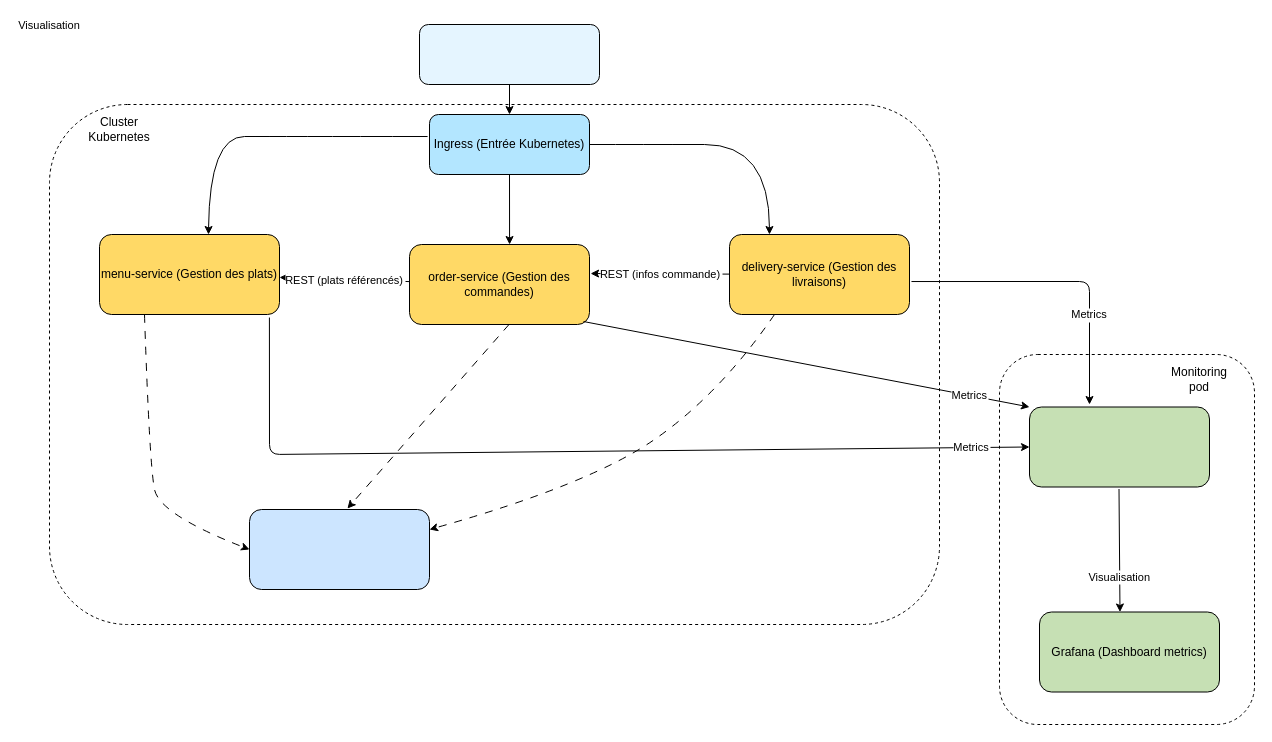
Some shapes in this 1272 by 742 pixel diagram are drawn without their labels. Here are the shapes that lost their labels. From the top down, the box of each, then its label:
(418, 24, 600, 84): User (Frontend / Client API)
(1028, 406, 1210, 487): Prometheus (scrape /actuator/prometheus)
(248, 508, 430, 590): Kubernetes (Deployments, Services, HPA)
